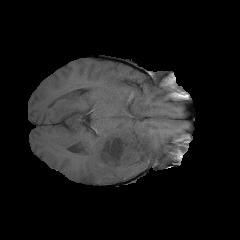glioma: (82, 120, 179, 184)
